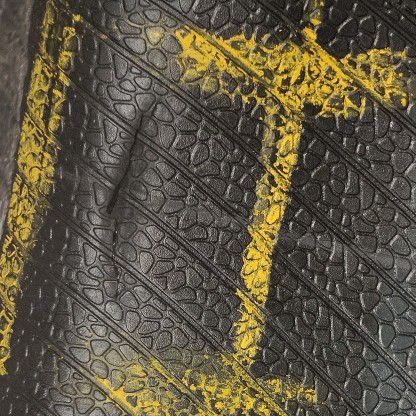CBU: (97, 105, 157, 313)
